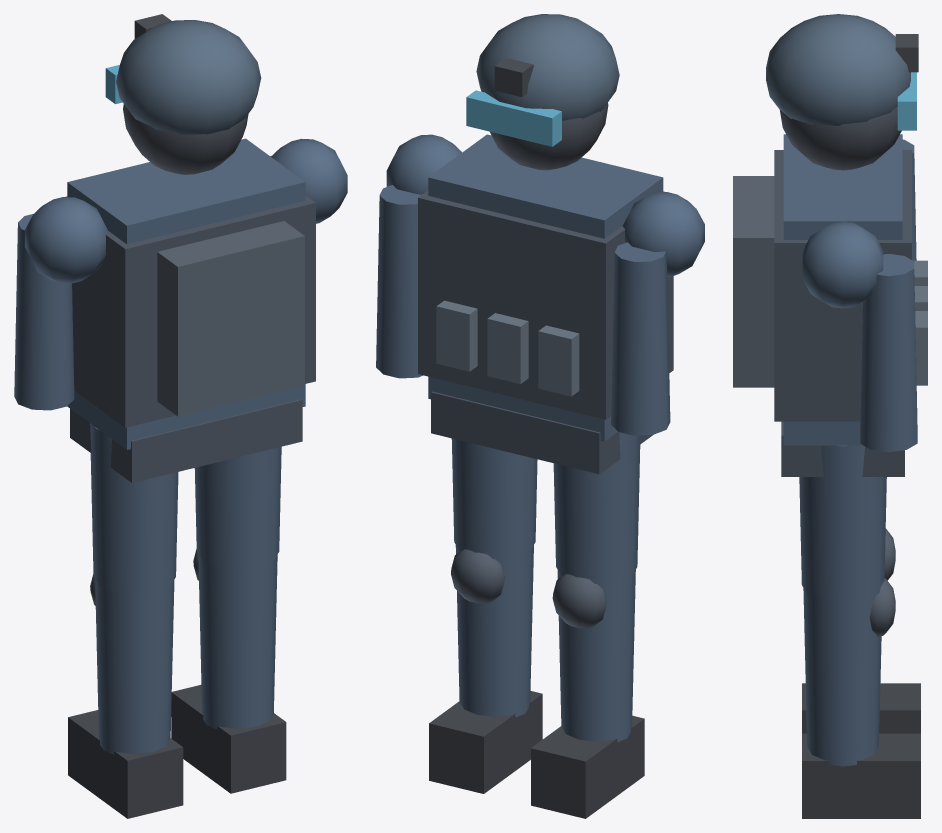
File: player_operator.glb
3 renders of one model, left to right at view 1: azimuth 30°, elevation 25°; view 2: azimuth 150°, elevation 25°; view 3: azimuth 270°, elevation 25°, orthographic.
Parts seen in each view (by area): view 1: player_operator; view 2: player_operator; view 3: player_operator.
Part boxes in pixels (bbox=[...]): player_operator: bbox=[14, 14, 347, 818]; player_operator: bbox=[376, 14, 704, 818]; player_operator: bbox=[733, 14, 927, 818].
Size of the model in its own units: 0.7852 by 1.83 by 0.425.
